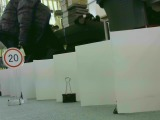speed_20: (1, 46, 24, 68)
